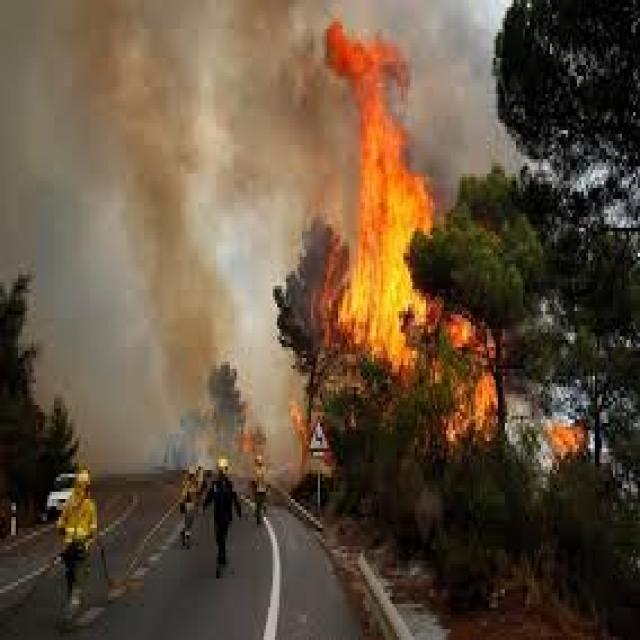Fire: (314, 19, 498, 446), (544, 422, 590, 462)
Smoke: (0, 0, 309, 474)
